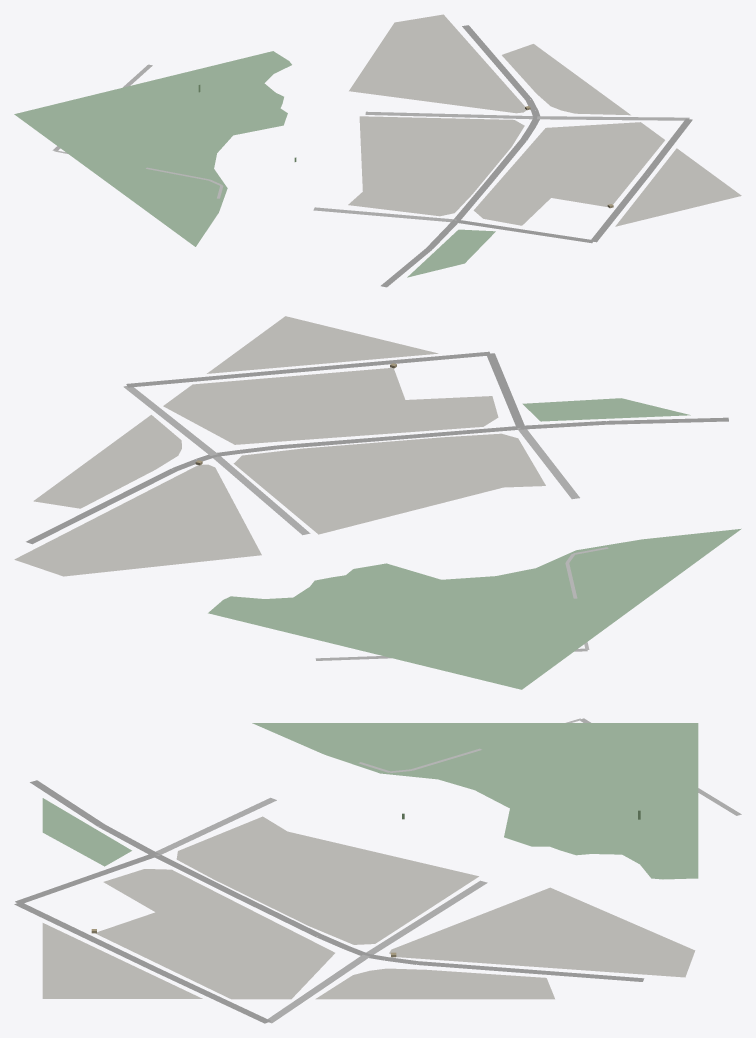
The picture shows the model from 3 angles, top to bottom: view 1: azimuth 30°, elevation 25°; view 2: azimuth 150°, elevation 25°; view 3: azimuth 270°, elevation 25°; orthographic projection. The views are drawn at different scales.
Size of the model in its own units: 553 by 8.1 by 555.
